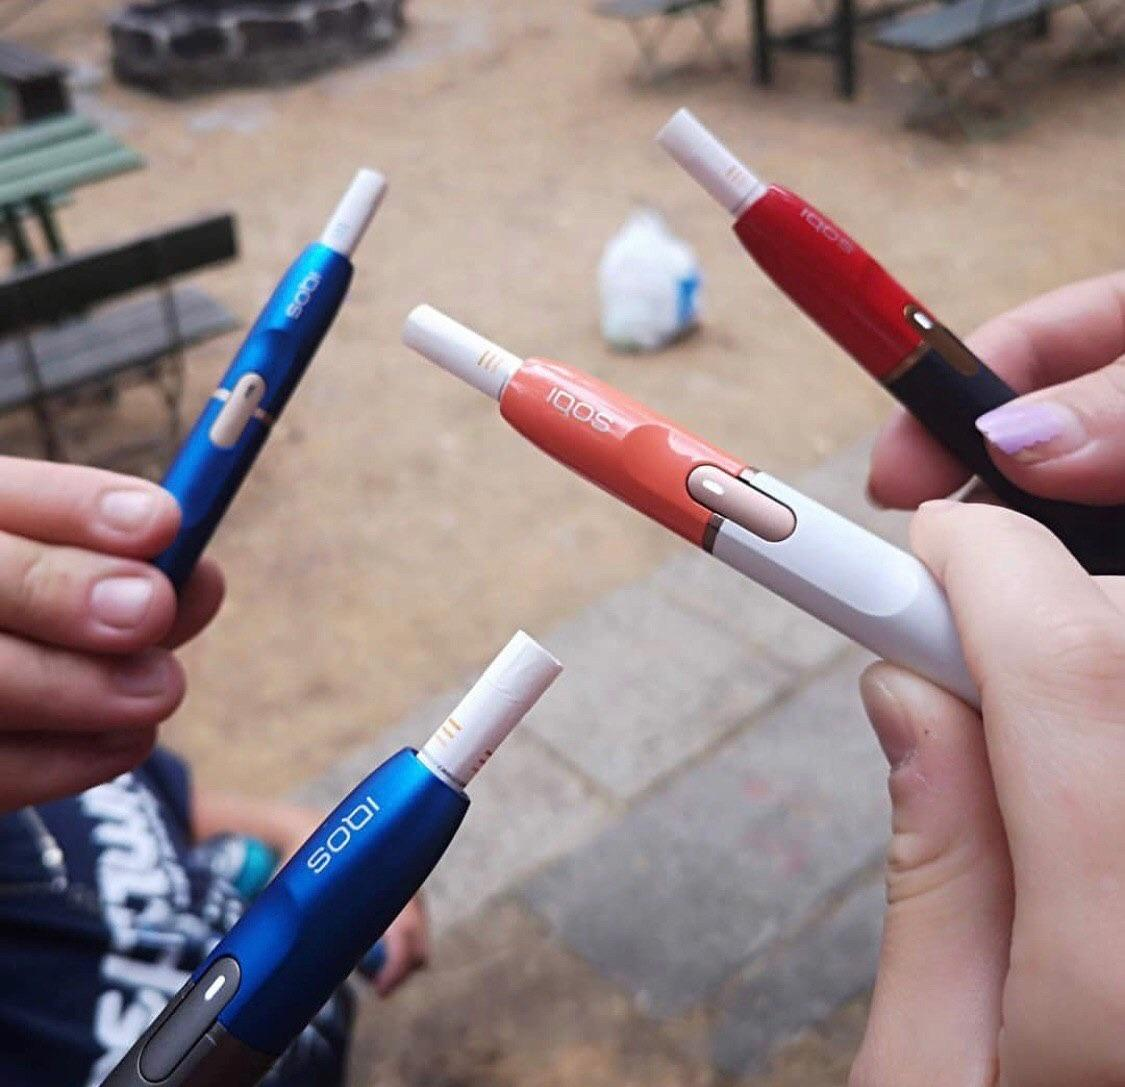iqos: (403, 305, 978, 704), (661, 111, 1124, 575), (103, 633, 561, 1086), (155, 169, 385, 586)
